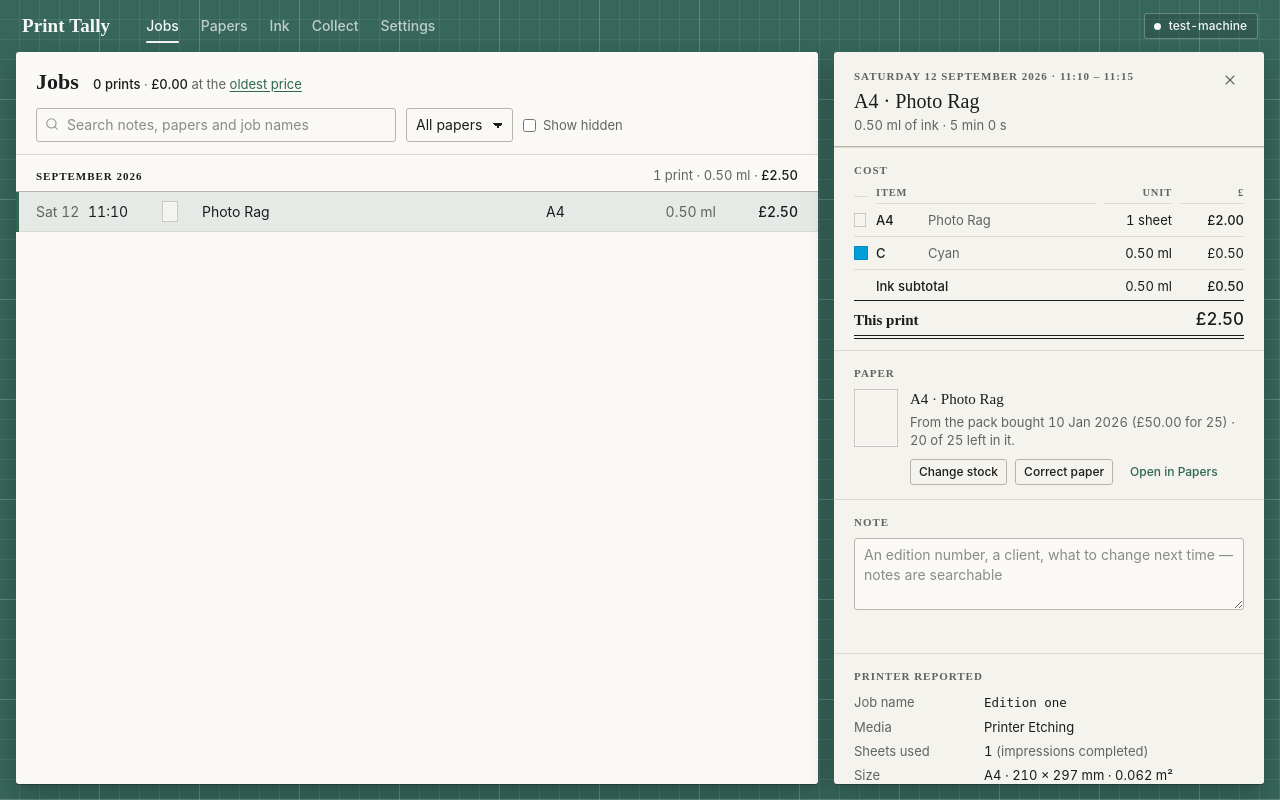
it: changing stock previews a shortage before saving the selected stock item
Expected: the option "Sat 12 11:10 Photo Rag A4 0.50 ml £2.50" is shown, [16,192,818,232]
Click the button "Change stock": (959, 472) [910,459,1007,485]
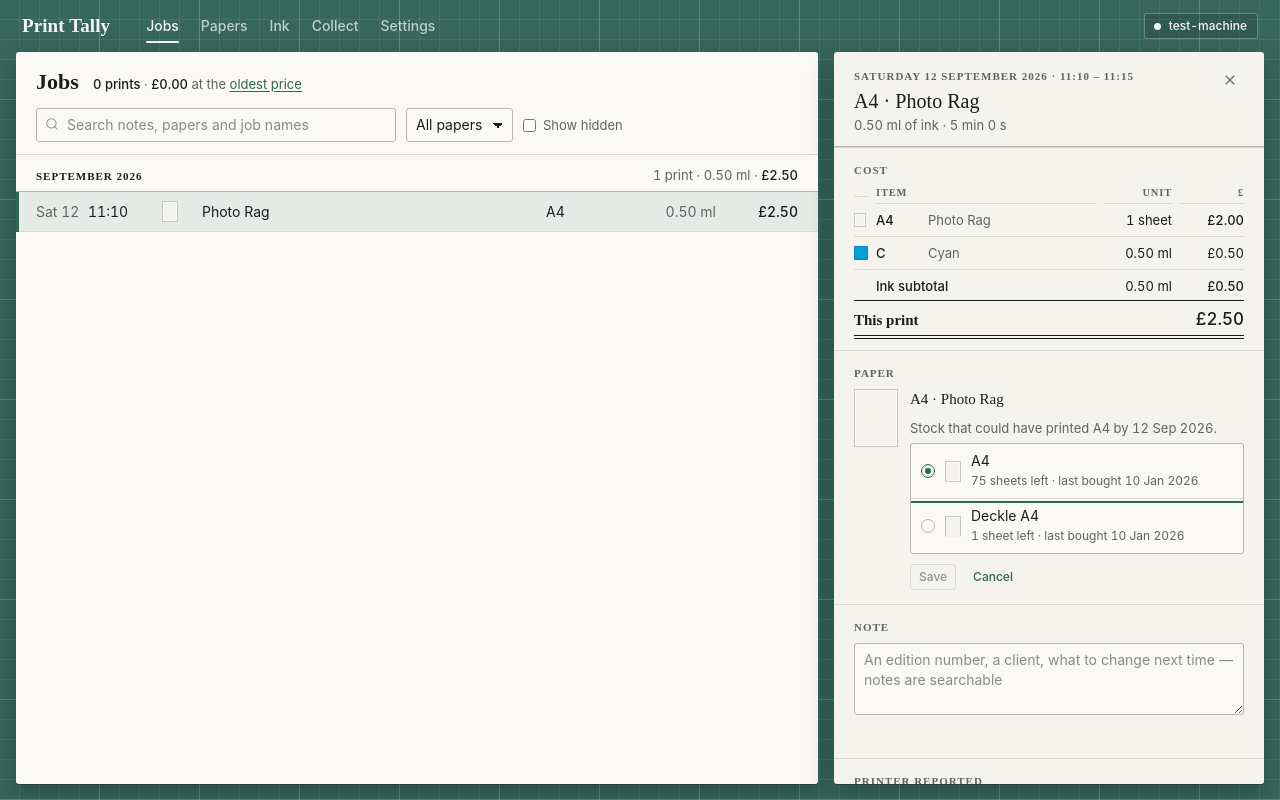
Result: the button "Save" is disabled at [910,564,956,590]
Click the radio button labelled "Deckle A4 1 sheet left · last bought 10 Jan 2026": (1077, 526) [911,499,1243,553]
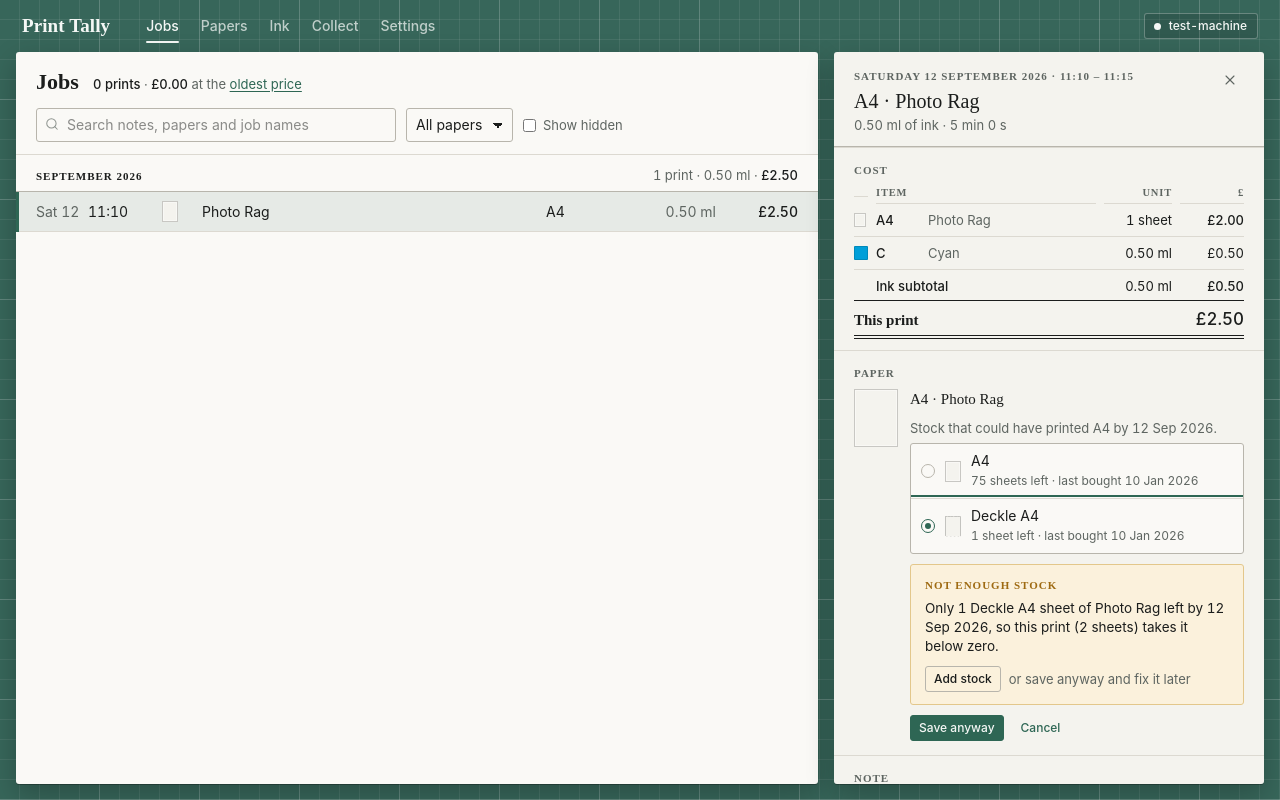
Result: the text "Not enough stock" is shown at [925,579,1057,591]
Result: the element named "Print docket" shows "Only 1 Deckle A4 sheet of Photo Rag left" at [925,600,1224,654]
Click the button "Save anyway": (957, 728) [910,715,1004,741]
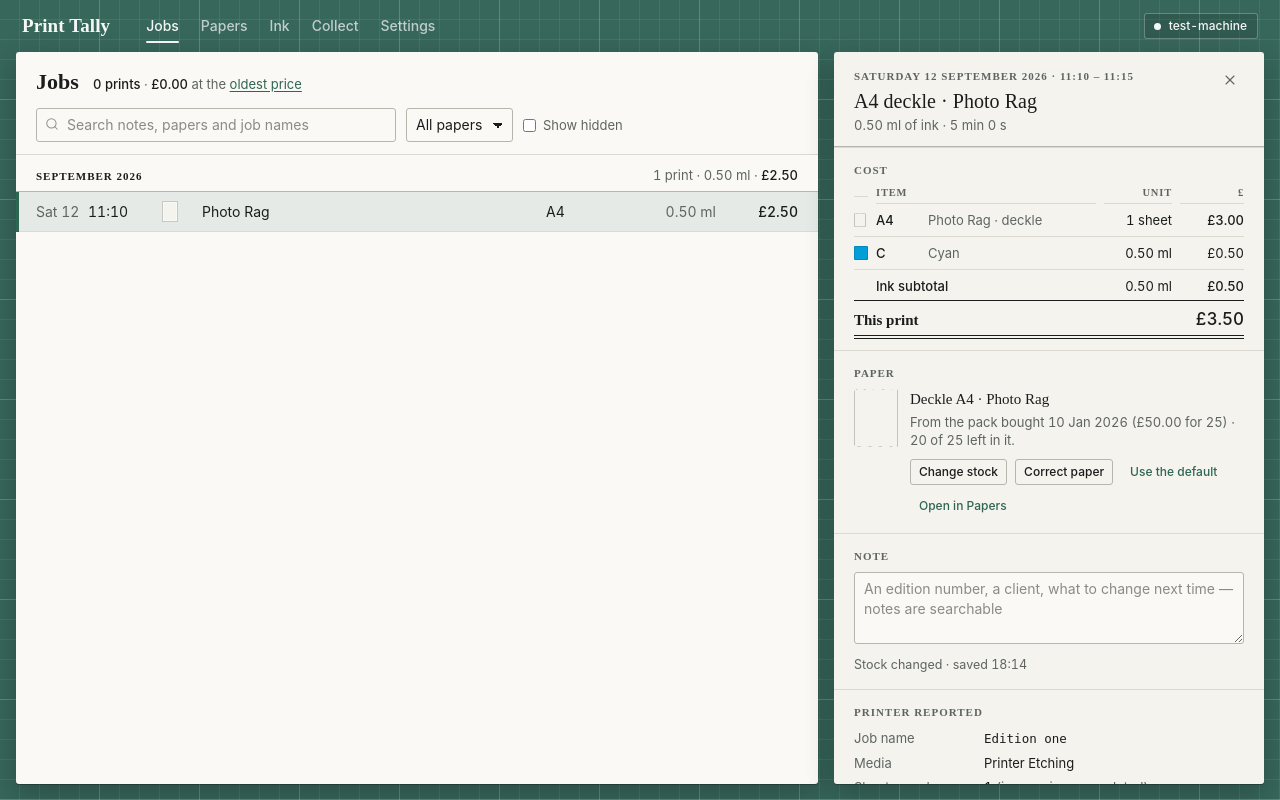
Result: the text "Stock changed · saved 18:14" is shown at [854,657,1027,672]
Result: the element named "Print docket" shows "Deckle A4 · Photo Rag" at [910,391,1049,407]
